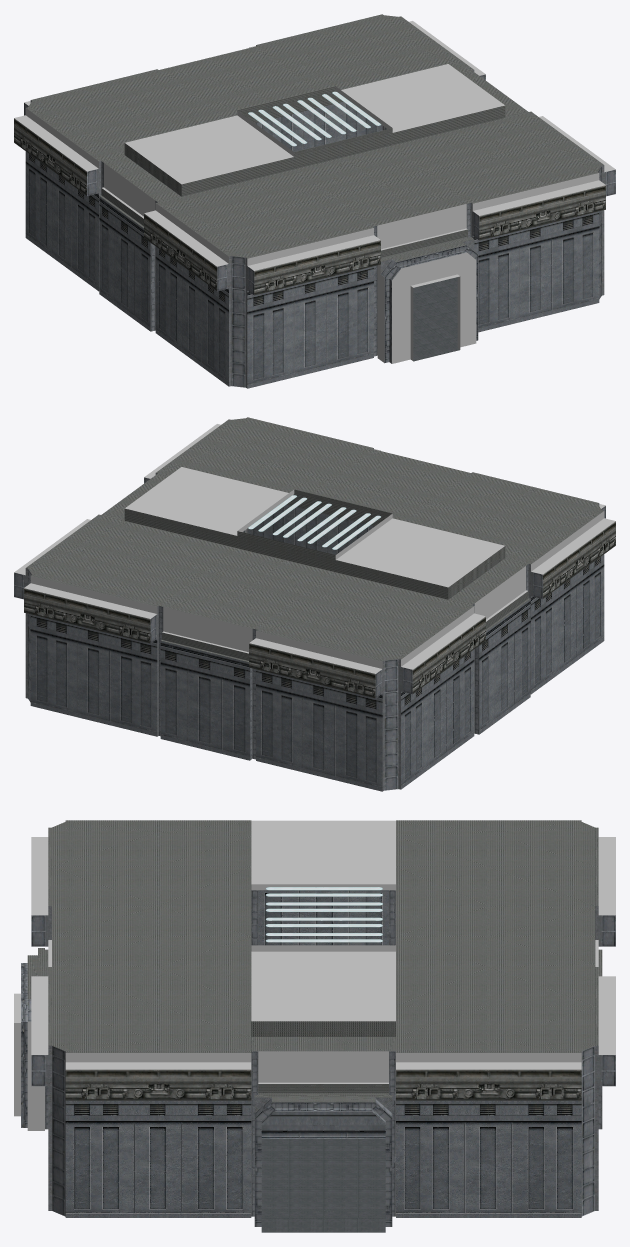
The model's file is poi_all_impl_bunker_warren_s01_r14_smallroom14_mesh_r14.fbx.
The picture shows the model from 3 angles, top to bottom: view 1: azimuth 30°, elevation 25°; view 2: azimuth 150°, elevation 25°; view 3: azimuth 270°, elevation 25°; orthographic projection. The views are drawn at different scales.
Visible parts, largest first — view 1: mesh_node; view 2: mesh_node; view 3: mesh_node.
Boxes of the visible parts, x1,y1,x2,y2 form: mesh_node: [14, 14, 615, 388]; mesh_node: [14, 417, 615, 791]; mesh_node: [14, 820, 615, 1232].
Bounding box in the file's own units: 17.5 × 6 × 17.5.
